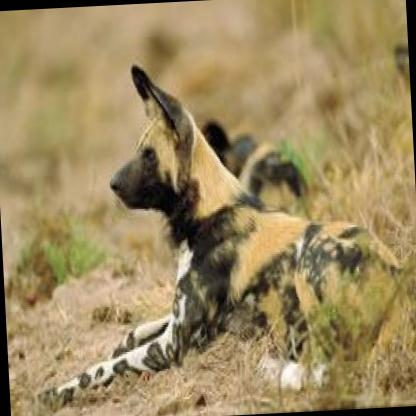African_hunting_dog: (18, 48, 414, 410)
